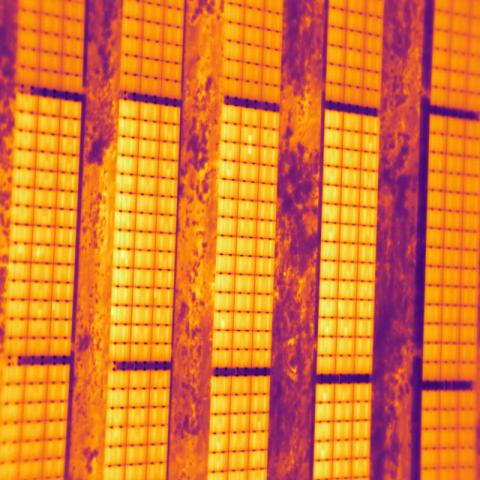fault: (240, 124, 260, 164)
